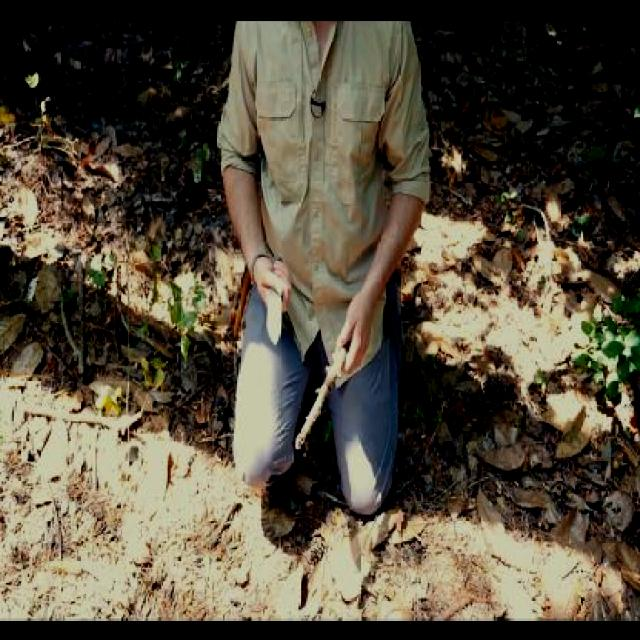knife: (257, 249, 292, 360)
